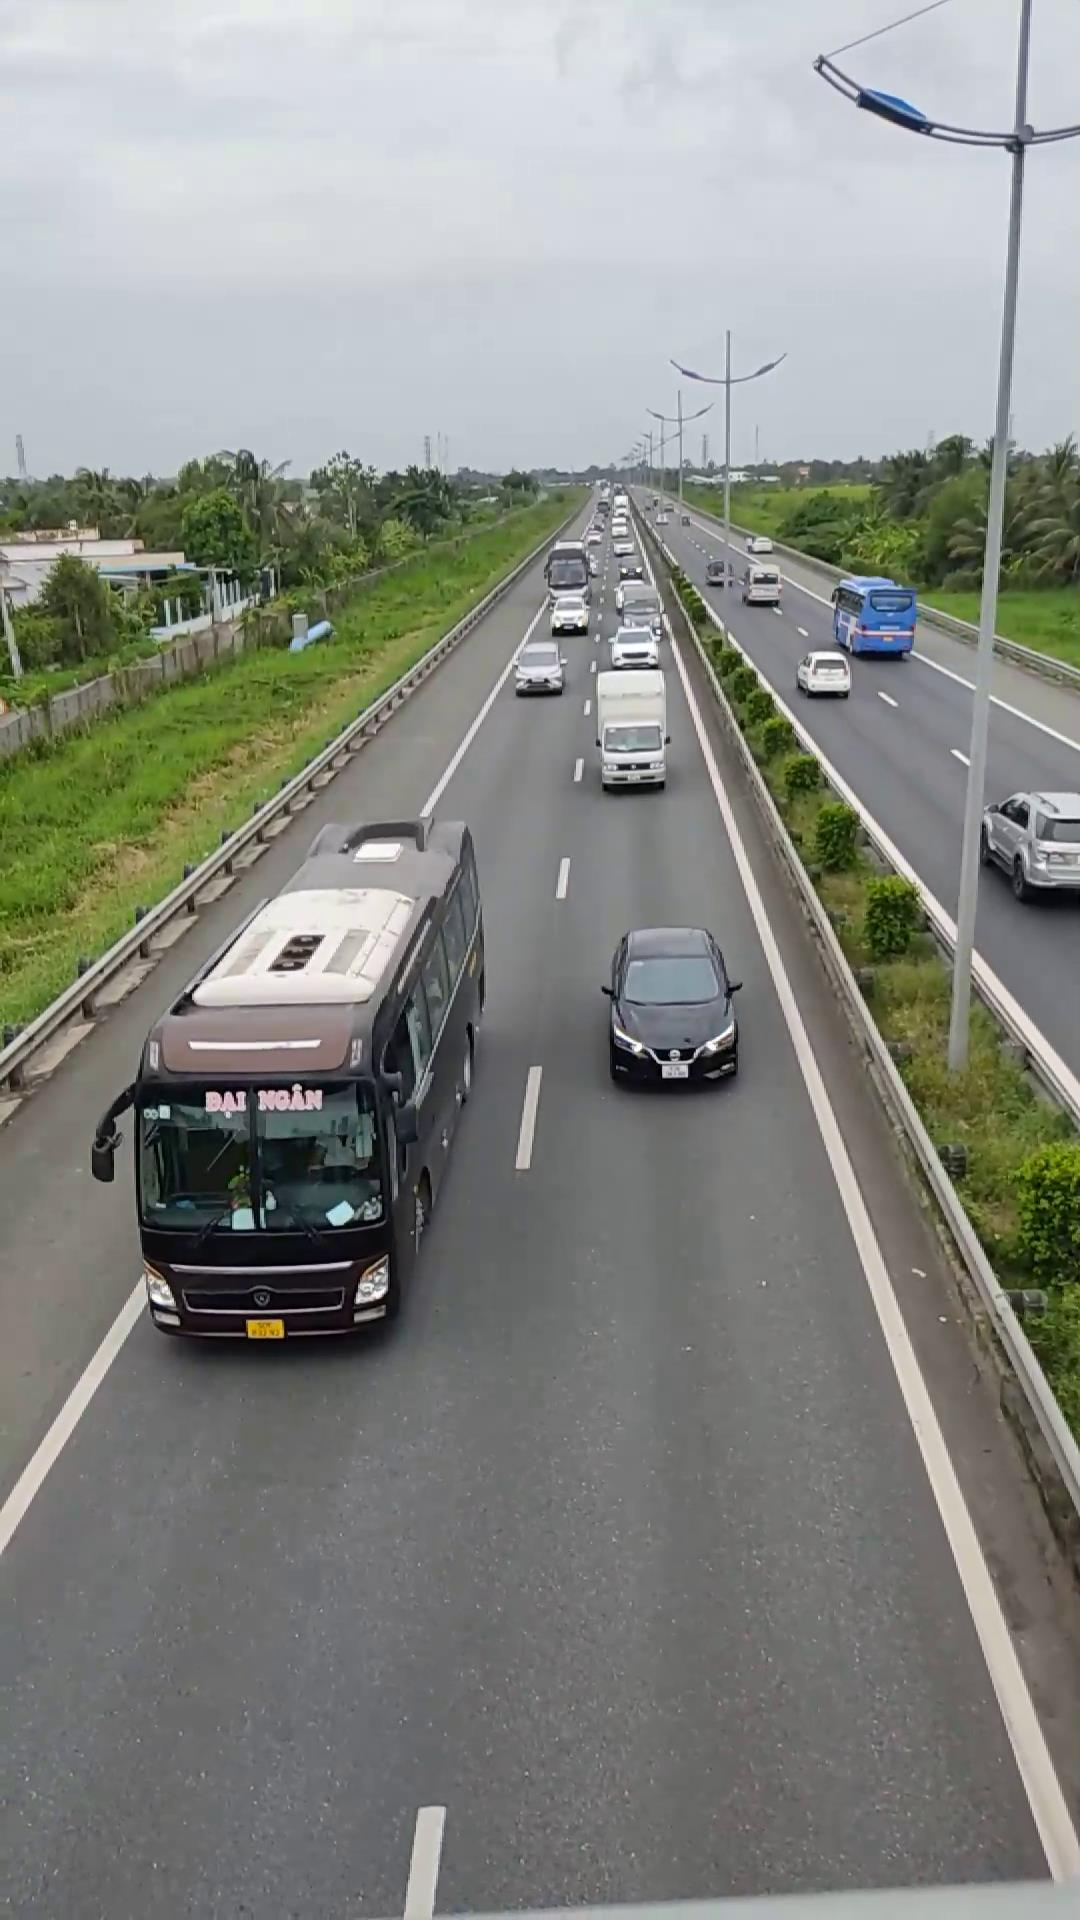bus: (104, 814, 491, 1342)
car: (971, 694, 1080, 905), (601, 924, 741, 1087)
truck: (589, 665, 673, 790)
